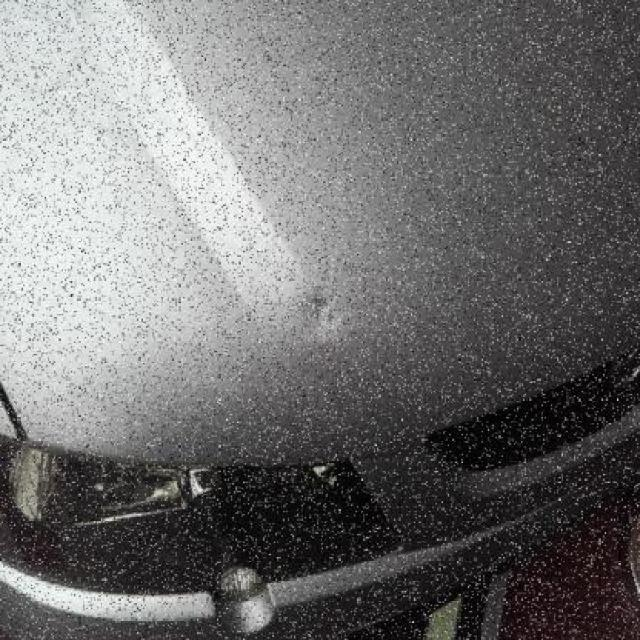bonnet-dent: (113, 3, 586, 559)
